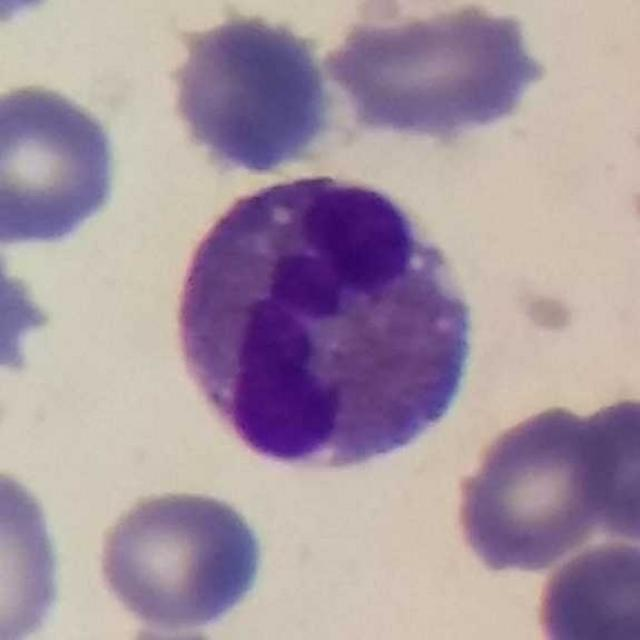Eosinophil: (150, 147, 491, 487)
RBC: (318, 0, 556, 151), (156, 4, 347, 186), (445, 396, 628, 578), (89, 483, 271, 634), (0, 76, 130, 252), (0, 461, 71, 640), (530, 536, 640, 640), (570, 388, 639, 550), (0, 232, 65, 394)
